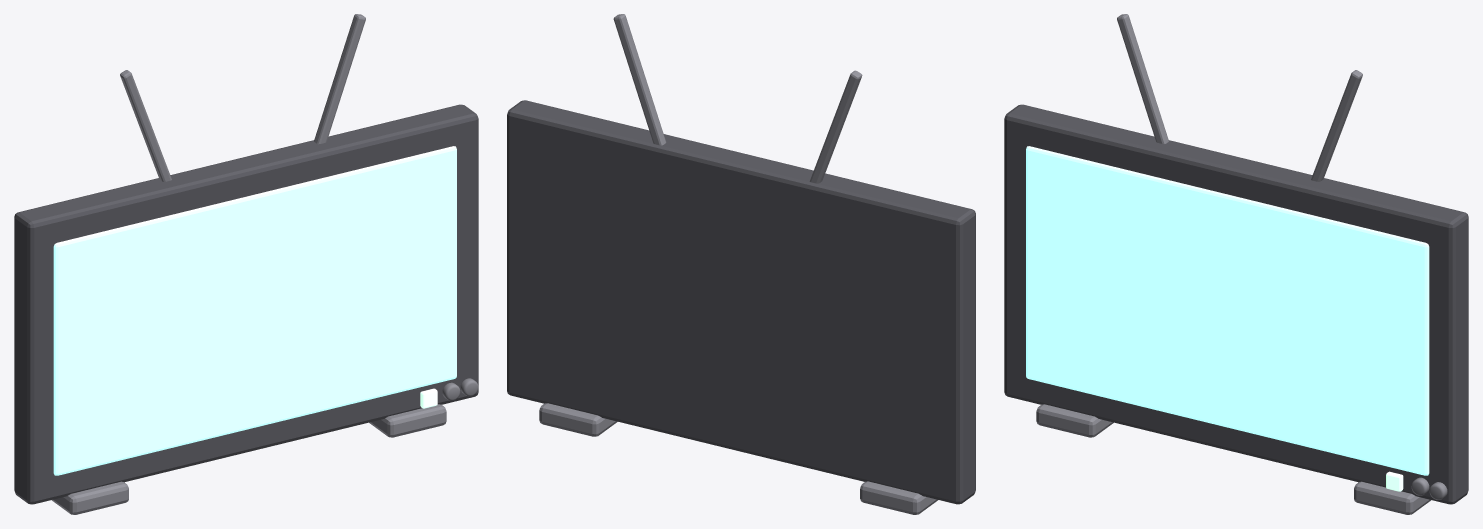
The model's file is телевизор.glb.
The picture shows the model from 3 angles, left to right: view 1: azimuth 30°, elevation 25°; view 2: azimuth 150°, elevation 25°; view 3: azimuth 330°, elevation 25°; orthographic projection.
Visible parts, largest first — view 1: телевизор; view 2: телевизор; view 3: телевизор.
Part boxes in pixels (x1=…): телевизор: x1=14, y1=14, x2=478, y2=514; телевизор: x1=507, y1=14, x2=975, y2=514; телевизор: x1=1004, y1=14, x2=1468, y2=514.
Size of the model in its own units: 1.5 by 1.32 by 0.16.
